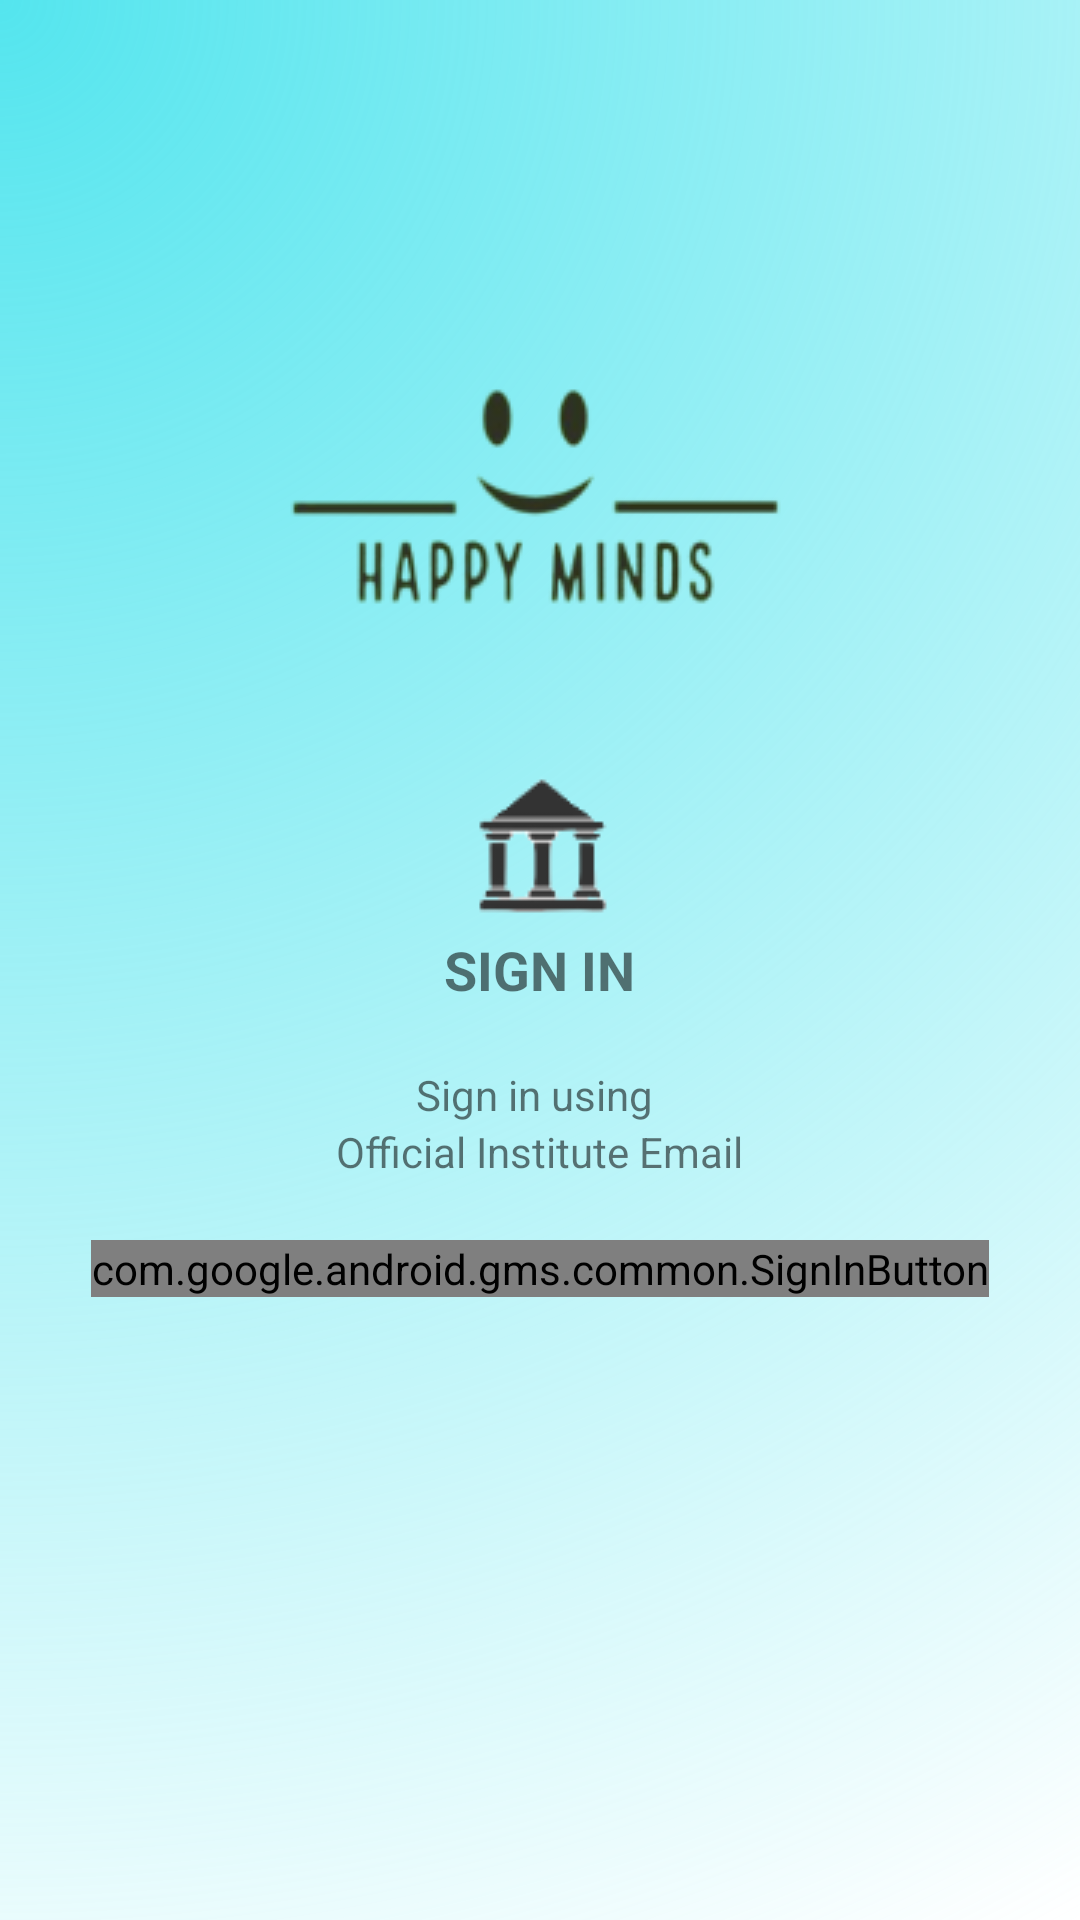

Icon click points for this 1080*1920 phone screenshot, format (x,y):
institute: (543,846)
